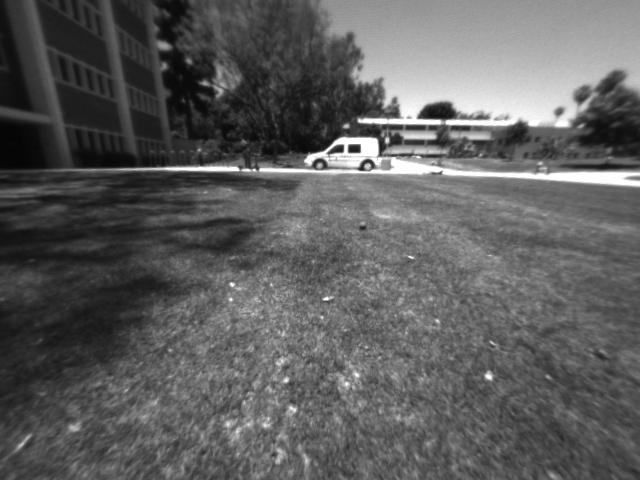dogtoy: (352, 215, 373, 235)
